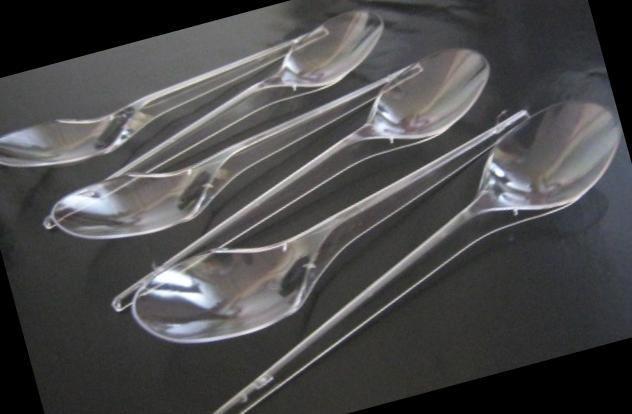Plastik: (213, 101, 620, 413), (112, 48, 489, 310), (132, 111, 527, 343), (45, 56, 434, 239), (0, 23, 328, 167), (107, 10, 383, 178)
